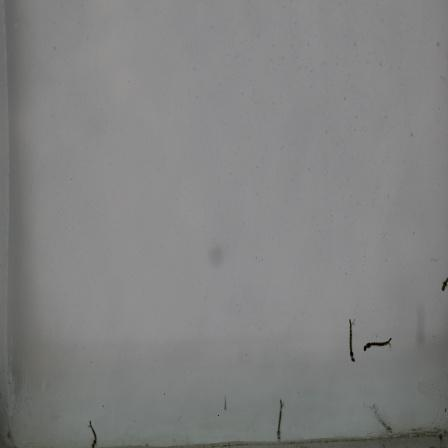Jentik-Nyamuk: (362, 335, 395, 355), (346, 317, 358, 365), (274, 395, 285, 442), (86, 417, 101, 448), (437, 272, 448, 297)
